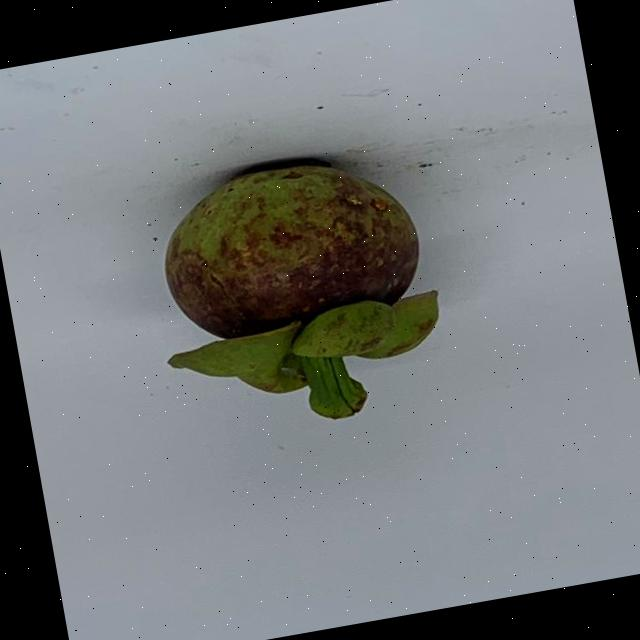mangosteen: (146, 144, 472, 452)
